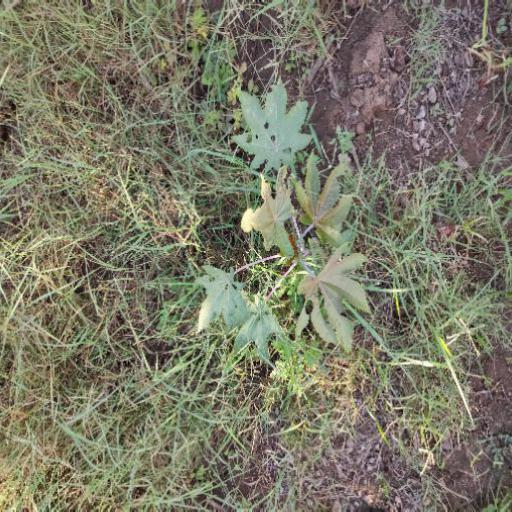weed: (13, 30, 222, 480), (170, 93, 398, 363)
